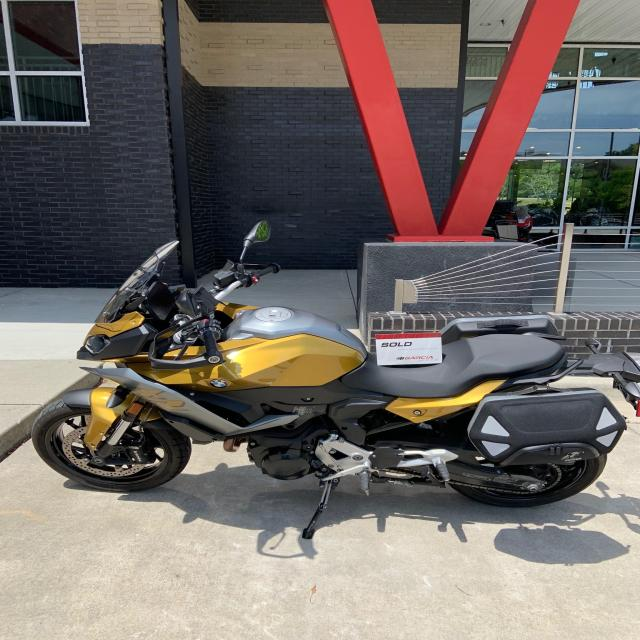Motorcycle: (32, 222, 640, 539)
